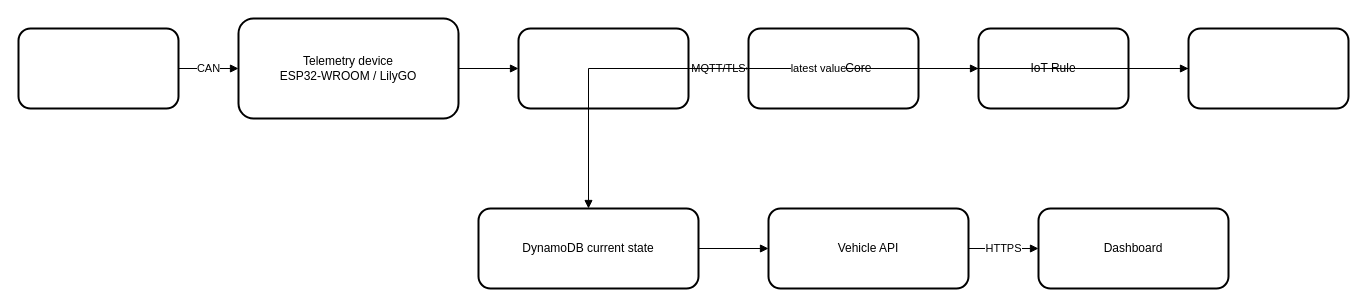
This 1366x306 diagram has some shape labels left out. Each missing label, with the centre of its shape:
Microlino CAN / OBD-II: the point at 98,68
MotAwsIot: the point at 603,68
State Lambda: the point at 1268,68
